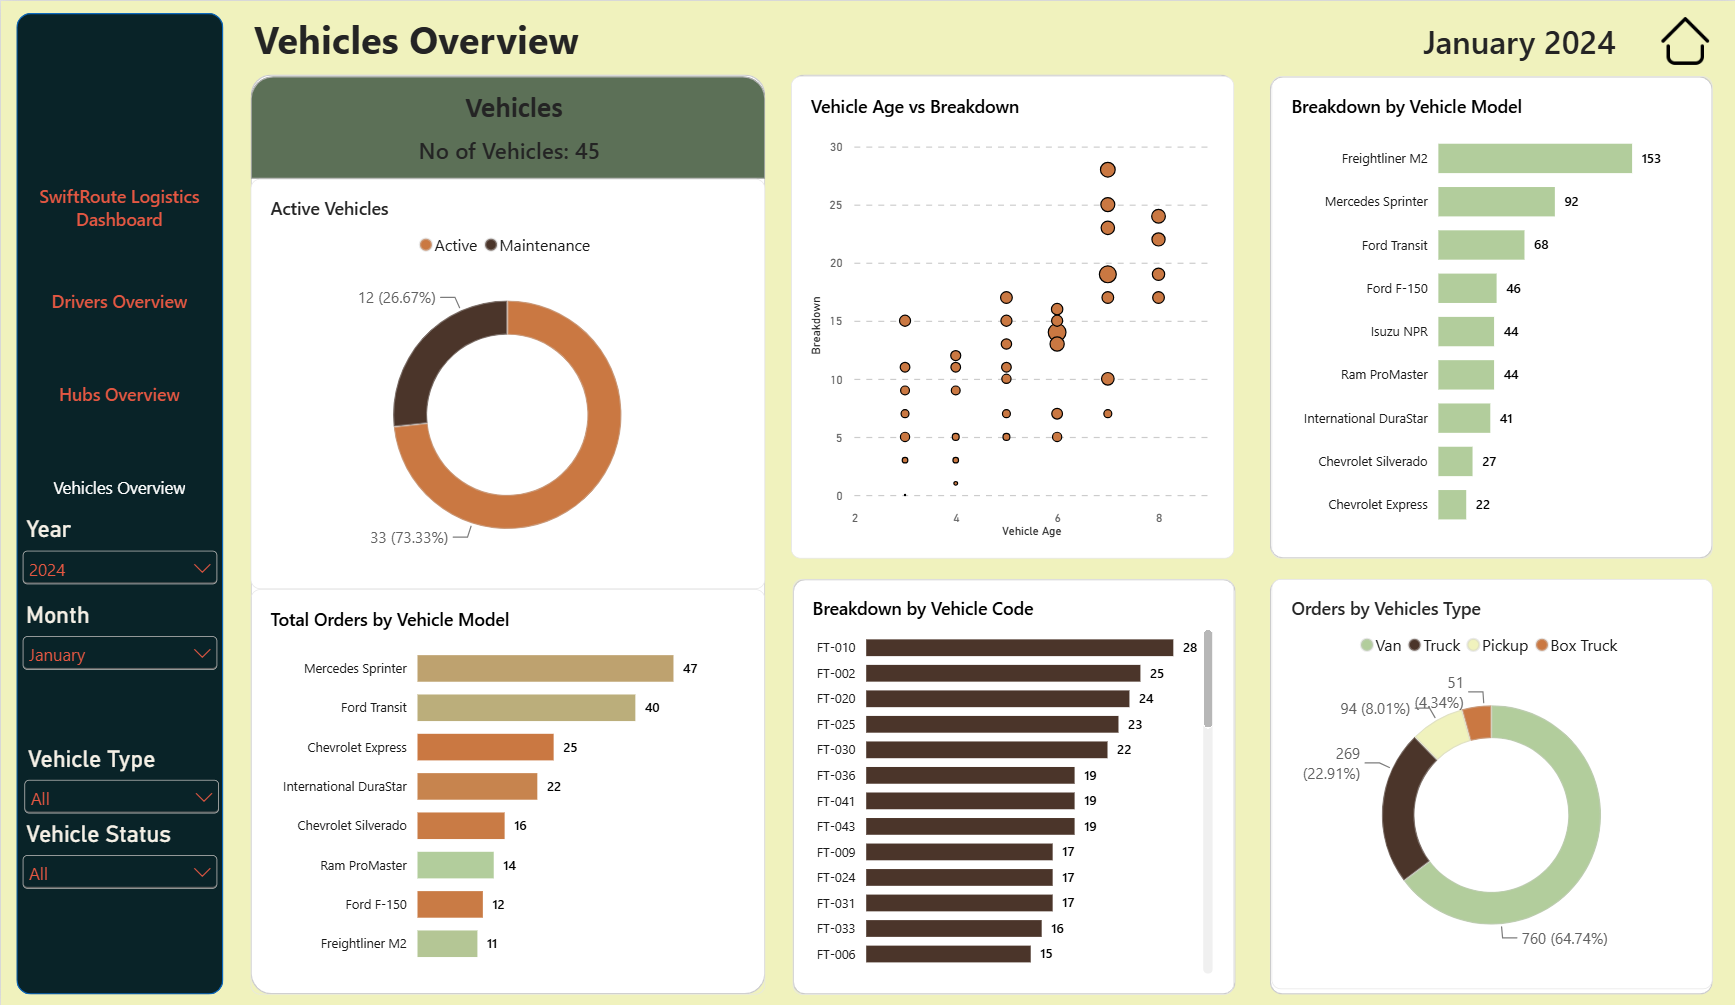

The page's visual inventory and layout, read from the dashboard file:
{"tool":"powerbi","page":{"name":"Vehicles Overview","canvas":[1450,840],"ordinal":3},"visuals":[{"type":"shape","box":[12.9,10,172.9,820],"z":0},{"type":"textbox","box":[211.7,10,426.7,48.3],"z":1000},{"type":"slicer","fields":{"Values":["Date Table.Year"]},"box":[12.9,430,172.9,71.4],"z":2000},{"type":"slicer","fields":{"Values":["Date Table.Month"]},"box":[12.9,501.4,172.9,78.6],"z":3000},{"type":"cardVisual","fields":{"Data":["Orders.Year Mont Title"]},"box":[1160,10,217.1,47.1],"z":4000},{"type":"shape","box":[660,61.4,370,404.3],"z":5000},{"type":"image","box":[1384.3,10,45.7,47.1],"z":6000},{"type":"shape","box":[208.3,61.7,430,768.3],"z":7000},{"type":"shape","box":[208.6,62.9,430,85.7],"z":8000},{"type":"textbox","box":[227.1,74.3,402.9,31.4],"z":9000},{"type":"cardVisual","fields":{"Data":["Vehicles.No of Vehicles"]},"box":[235.7,105.7,378.6,38.6],"z":10000},{"type":"donutChart","title":"Active Vehicles","fields":{"Category":["Vehicles.Vehicle Status"],"Y":["CountNonNull(Vehicles.Vehicle ID)"]},"box":[208.6,148.6,430,342.9],"z":11000},{"type":"barChart","fields":{"Category":["Vehicles.Vehicle Model"],"Y":["Orders.Total Orders"]},"box":[208.6,491.4,430,338.6],"z":12000},{"type":"shape","box":[1060,62.9,370,402.9],"z":13000},{"type":"scatterChart","title":"Vehicle Age vs Breakdown","fields":{"Size":["Sum(Vehicles.Breakdown)1"],"X":["Vehicles.Vehicle Age"],"Y":["Vehicles.Breakdown"]},"box":[660,62.9,370,402.9],"z":14000},{"type":"shape","box":[661.4,482.9,370,347.1],"z":15000},{"type":"shape","box":[1060,482.9,370,347.1],"z":16000},{"type":"barChart","title":"Breakdown by Vehicle Code","fields":{"Category":["Vehicles.Vehicle Code"],"Y":["Sum(Vehicles.Breakdown)"]},"box":[661.4,482.9,368.6,347.1],"z":17000},{"type":"barChart","title":"Breakdown by Vehicle Model","fields":{"Category":["Vehicles.Vehicle Model"],"Y":["Sum(Vehicles.Breakdown)"]},"box":[1061.4,62.9,368.6,402.9],"z":18000},{"type":"donutChart","title":"Orders by Vehicles Type","fields":{"Category":["Orders.Vehicle Type"],"Y":["Orders.Total Orders"]},"box":[1061.4,482.9,368.6,342.9],"z":19000},{"type":"pageNavigator","box":[12.9,138.6,172.9,307.1],"z":20000},{"type":"slicer","fields":{"Values":["Orders.Vehicle Type"]},"box":[14.3,621.4,172.9,62.9],"z":21000},{"type":"slicer","fields":{"Values":["Vehicles.Vehicle Status"]},"box":[12.9,684.3,172.9,62.9],"z":22000}]}

Visuals, with their boxes in screenshot pixels (x1, y1, x2, y2), scaled from the page's 1450x840 canvas onto the 1735x1005 screenshot:
shape: BBox(15, 12, 222, 993)
textbox: BBox(253, 12, 764, 70)
slicer - Date Table.Year: BBox(15, 514, 222, 600)
slicer - Date Table.Month: BBox(15, 600, 222, 694)
cardVisual - Orders.Year Mont Title: BBox(1388, 12, 1648, 68)
shape: BBox(790, 73, 1232, 557)
image: BBox(1656, 12, 1711, 68)
shape: BBox(249, 74, 764, 993)
shape: BBox(250, 75, 764, 178)
textbox: BBox(272, 89, 754, 126)
cardVisual - Vehicles.No of Vehicles: BBox(282, 126, 735, 173)
"Active Vehicles" donutChart: BBox(250, 178, 764, 588)
barChart - Vehicles.Vehicle Model x Orders.Total Orders: BBox(250, 588, 764, 993)
shape: BBox(1268, 75, 1711, 557)
"Vehicle Age vs Breakdown" scatterChart: BBox(790, 75, 1232, 557)
shape: BBox(791, 578, 1234, 993)
shape: BBox(1268, 578, 1711, 993)
"Breakdown by Vehicle Code" barChart: BBox(791, 578, 1232, 993)
"Breakdown by Vehicle Model" barChart: BBox(1270, 75, 1711, 557)
"Orders by Vehicles Type" donutChart: BBox(1270, 578, 1711, 988)
pageNavigator: BBox(15, 166, 222, 533)
slicer - Orders.Vehicle Type: BBox(17, 743, 224, 819)
slicer - Vehicles.Vehicle Status: BBox(15, 819, 222, 894)
